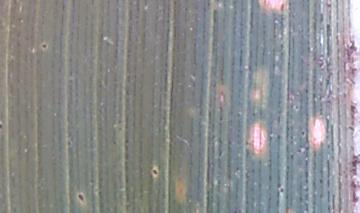tarspot: (74, 192, 87, 202), (39, 41, 49, 53), (297, 127, 307, 139), (301, 86, 311, 96), (276, 184, 286, 194), (150, 167, 159, 177), (316, 176, 326, 185), (1, 120, 5, 130)
